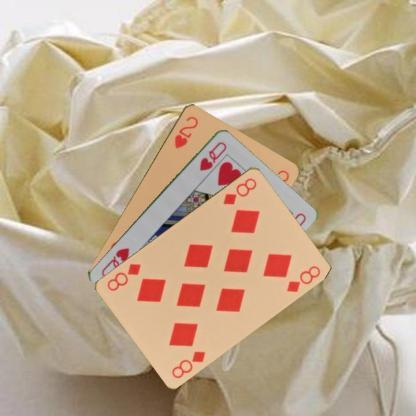2h: (172, 113, 200, 150)
8d: (220, 174, 258, 206), (169, 348, 207, 379)
Qh: (197, 138, 228, 172)
